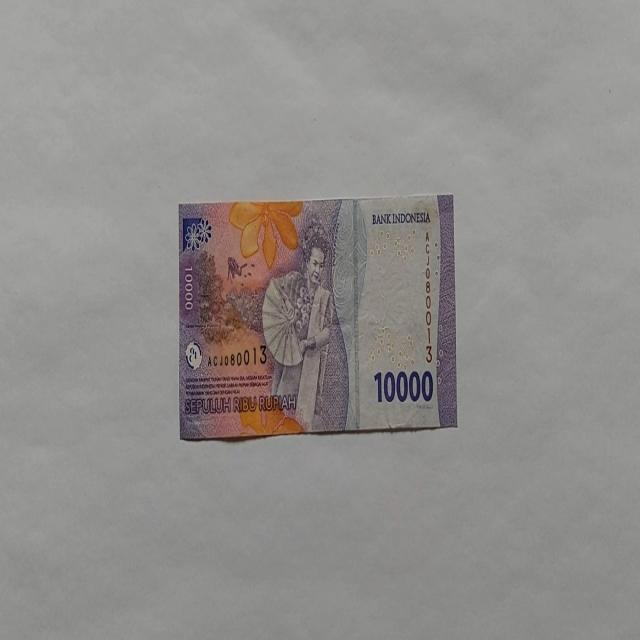sepuluh ribu rupiah: (177, 194, 457, 440), (260, 229, 350, 433)
